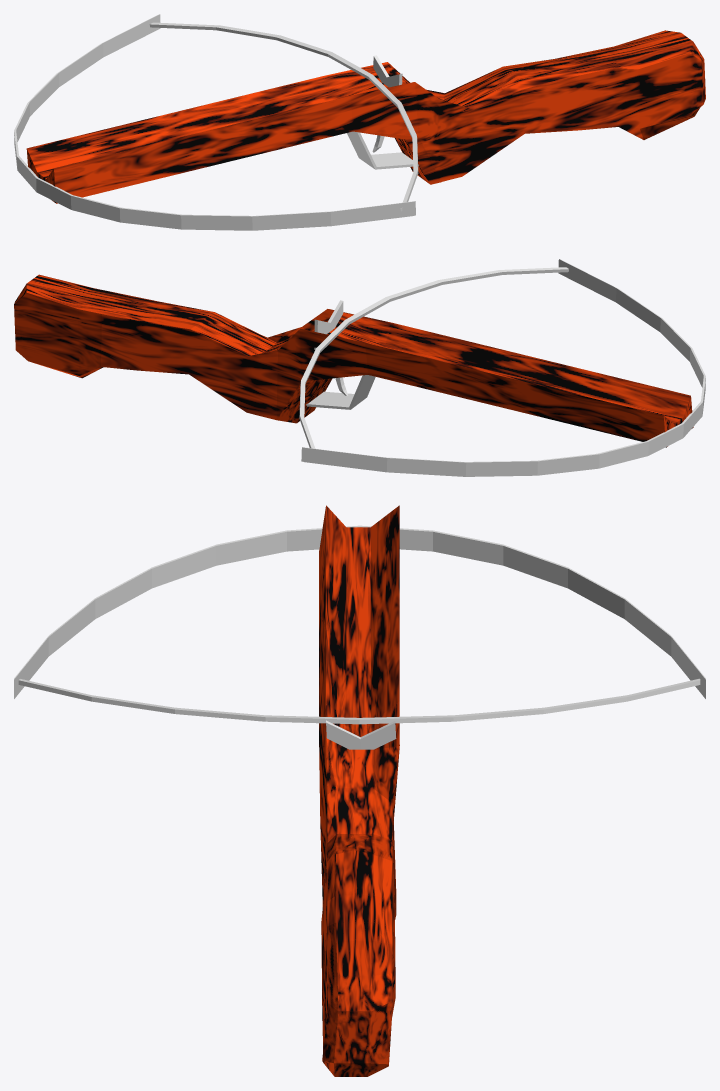
Rendered from crossbow.fbx.
The picture shows the model from 3 angles, top to bottom: view 1: azimuth 30°, elevation 25°; view 2: azimuth 150°, elevation 25°; view 3: azimuth 270°, elevation 25°; orthographic projection. The views are drawn at different scales.
Visible parts, largest first — view 1: crossbow; view 2: crossbow; view 3: crossbow.
Part boxes in pixels (x1,y1,x2,y2): crossbow: [14, 14, 705, 230]; crossbow: [14, 259, 705, 476]; crossbow: [14, 505, 705, 1076].
Bounding box in the file's own units: 81.89 × 14.77 × 54.86.
